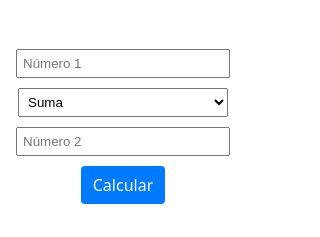
Test: Calculator component › Error al dividir por cero
Type "10" into the number field with placeholder "Número 1". click: (123, 63)
box: [16,48,230,78]
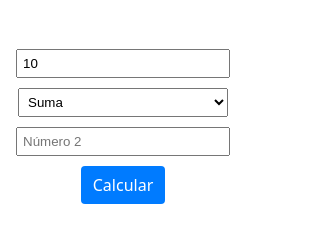
Type "0" into the number field with placeholder "Número 2". click: (123, 141)
box: [16,126,230,156]
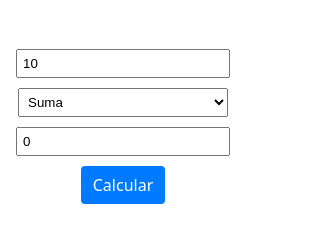
Select "División" in the dropdown. click: (123, 102)
box: [18,88,228,116]
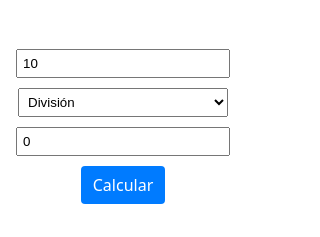
Click the button "Calcular". click: (123, 184)
box: [81,166,165,204]
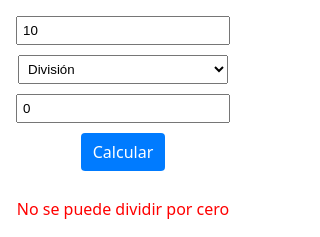
Check: the text "No se puede dividir por cero" is shown, box [17,196,229,220]
